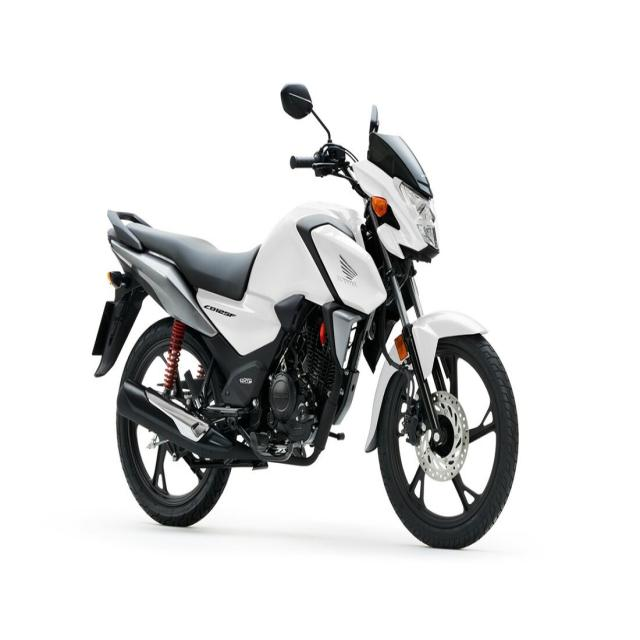Motorcycle: (93, 128, 519, 547)
